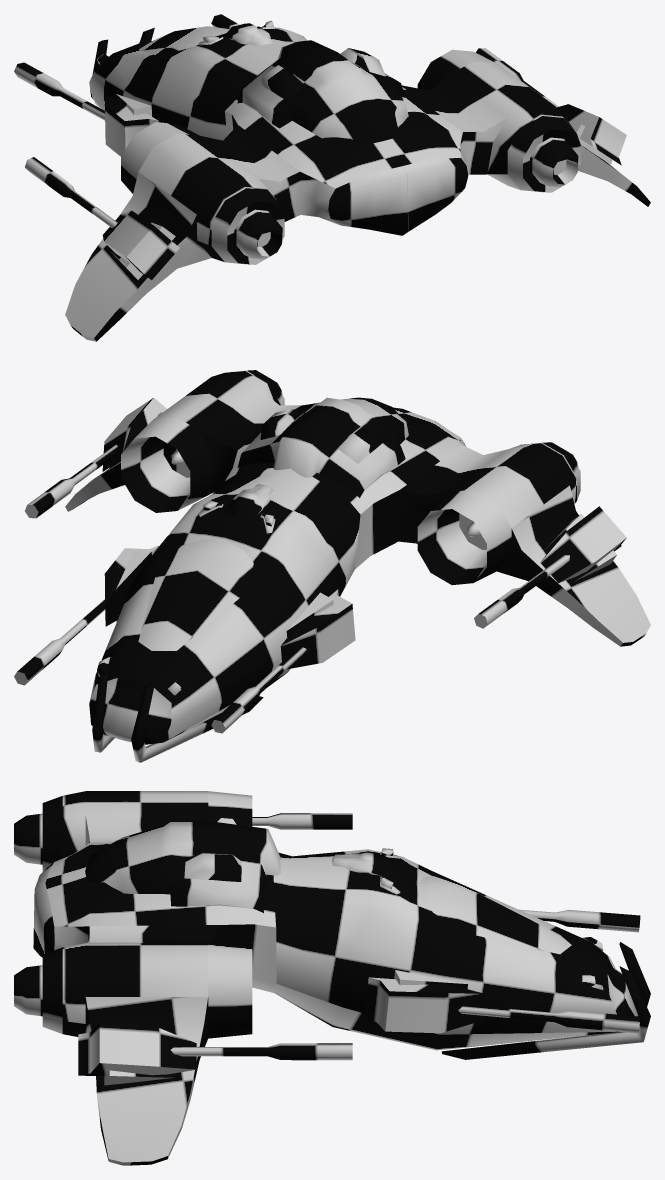
Rendered from police.obj.
The picture shows the model from 3 angles, top to bottom: view 1: azimuth 30°, elevation 25°; view 2: azimuth 150°, elevation 25°; view 3: azimuth 270°, elevation 25°; orthographic projection. The views are drawn at different scales.
Visible parts, largest first — view 1: police; view 2: police; view 3: police.
Boxes of the visible parts, <box> form: police: <box>14,14,650,341</box>; police: <box>14,370,650,762</box>; police: <box>14,791,650,1165</box>.
Size of the model in its own units: 120 by 40.71 by 112.
Materials: 1 (1 with a texture image).
